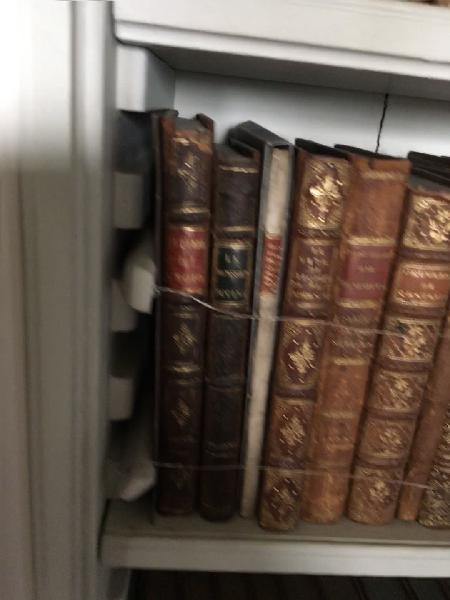Aa6-1: (142, 102, 215, 529)
Aa6-2: (211, 144, 263, 529)
Aa6-3: (235, 123, 296, 524)
Aa6-4: (270, 140, 348, 549)
Aa6-5: (295, 147, 412, 561)
Aa6-6: (334, 169, 450, 529)
